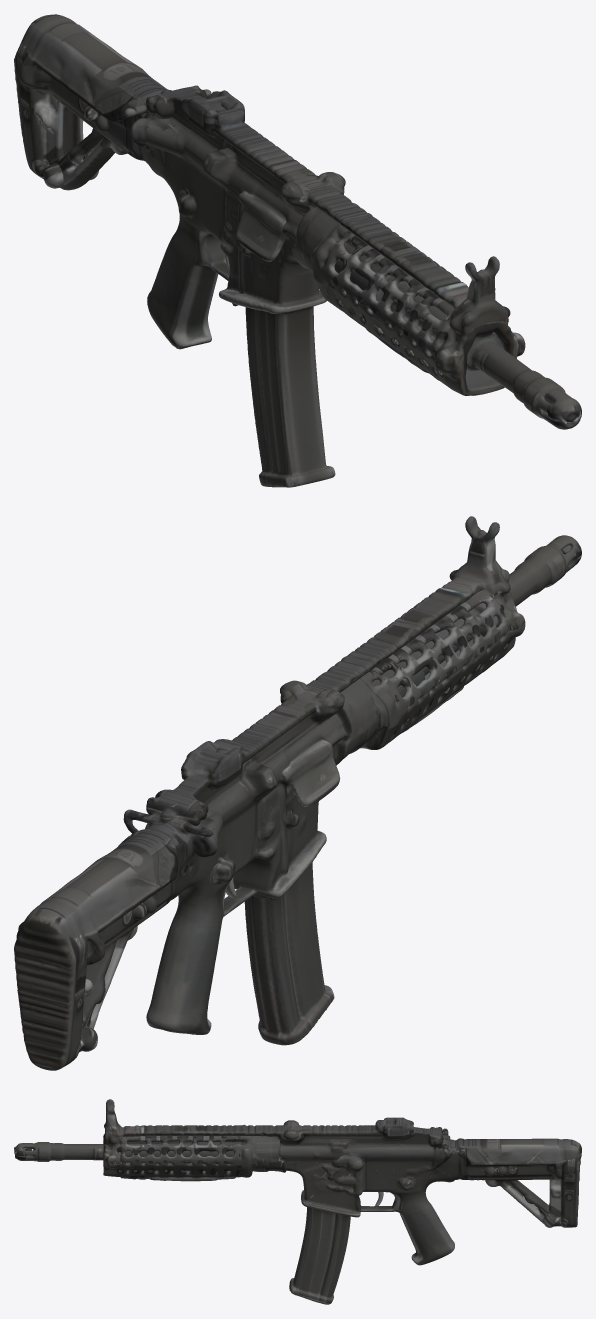
Rendered from medic_silah.glb.
3 renders of one model, top to bottom at view 1: azimuth 30°, elevation 25°; view 2: azimuth 150°, elevation 25°; view 3: azimuth 270°, elevation 25°, orthographic. The views are drawn at different scales.
Parts seen in each view (by area): view 1: tripo_node_156de0ce-c2e3-4c9a-949d-9f8d95864f84; view 2: tripo_node_156de0ce-c2e3-4c9a-949d-9f8d95864f84; view 3: tripo_node_156de0ce-c2e3-4c9a-949d-9f8d95864f84.
Boxes of the visible parts, x1,y1,x2,y2 form: tripo_node_156de0ce-c2e3-4c9a-949d-9f8d95864f84: (14,14,581,487); tripo_node_156de0ce-c2e3-4c9a-949d-9f8d95864f84: (14,516,581,1070); tripo_node_156de0ce-c2e3-4c9a-949d-9f8d95864f84: (14,1099,581,1304).
Bounding box in the file's own units: 0.095 × 0.3861 × 1.
Materials: 1 (1 with a texture image).
